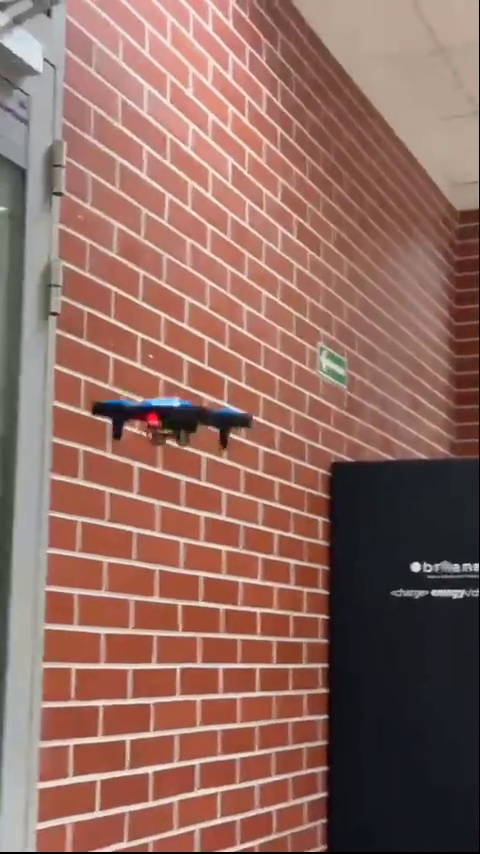drone: (89, 392, 252, 448)
